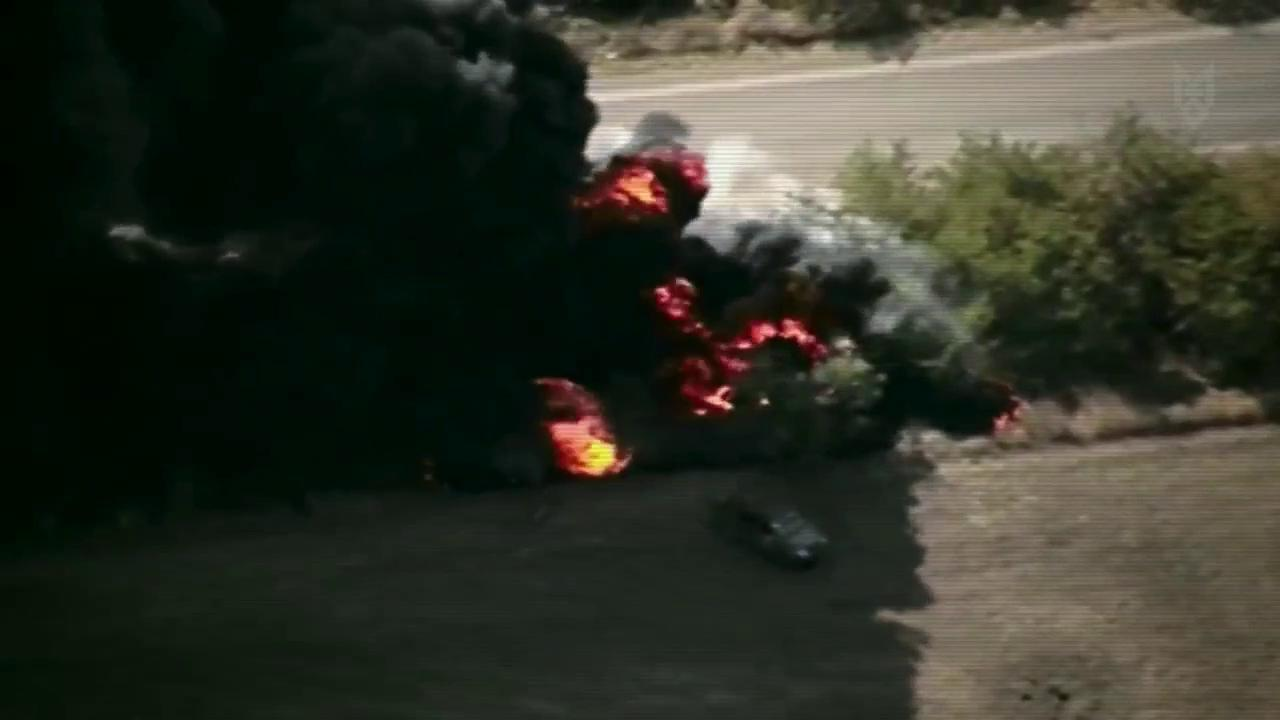tank: (713, 482, 837, 579)
